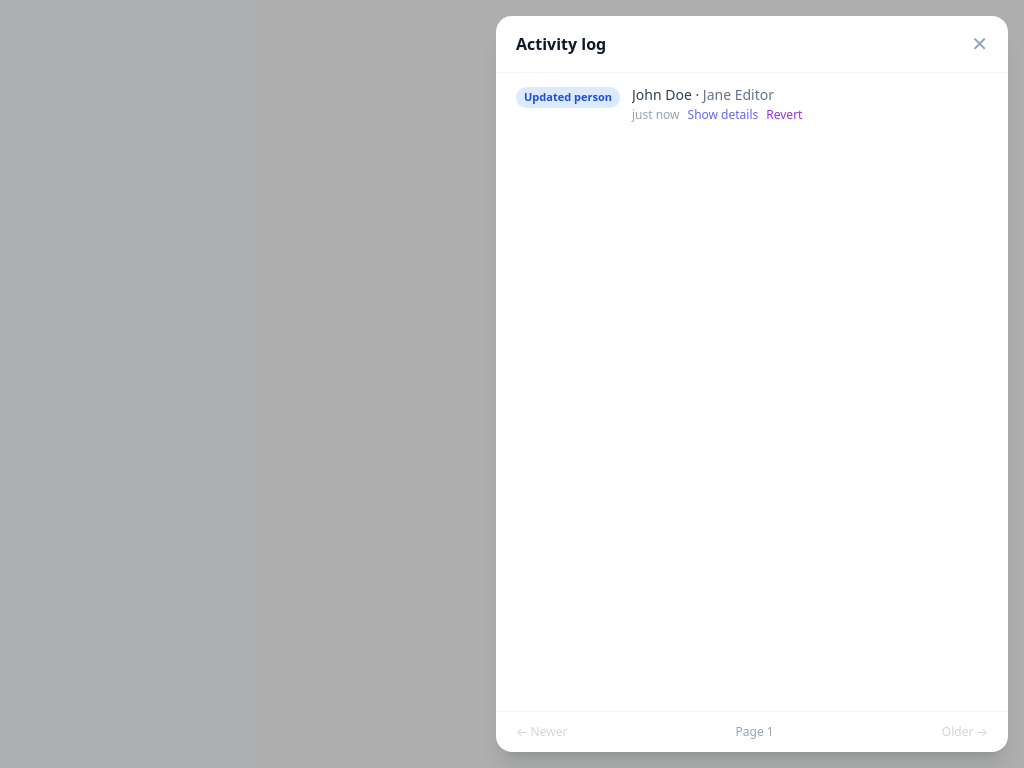
AuditLogModal — revert an approved change request › shows the lighter field-level warning for a surgical (non-full-tree) revert
Click the button "Revert" at (784, 115), box [766, 107, 802, 123]
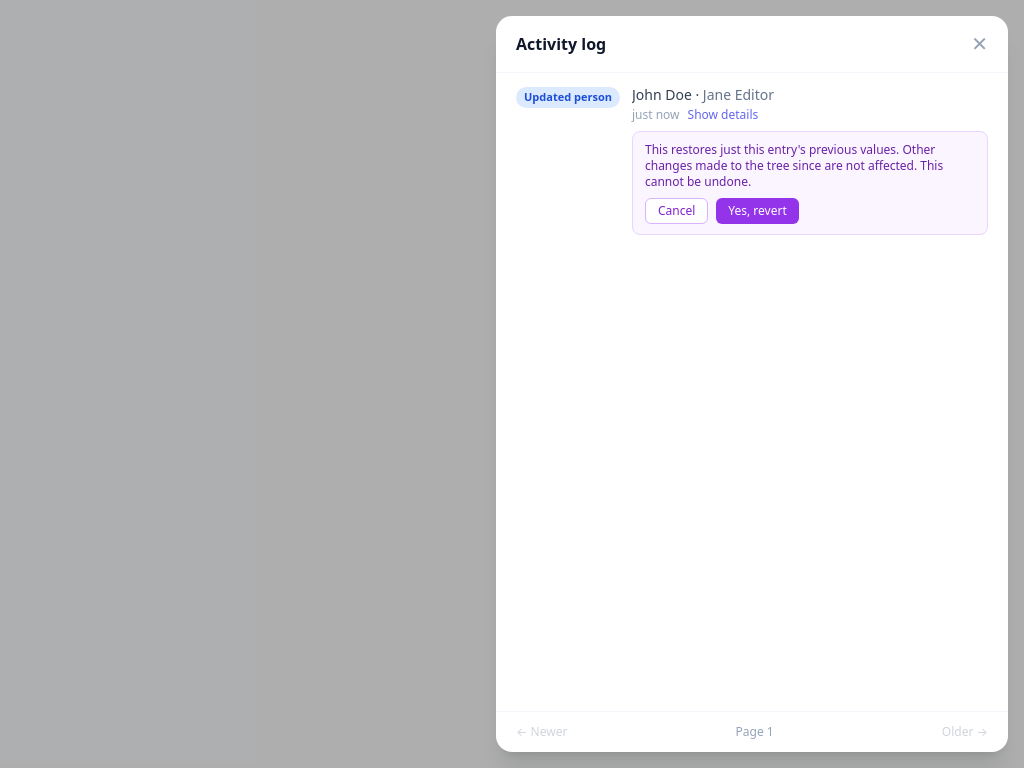
expect the text "other changes made to the tree since are not affected" is shown: met, box [645, 141, 943, 190]
